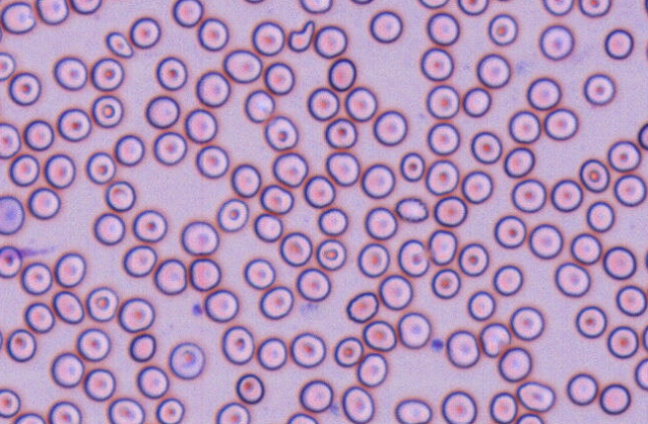PLT: (431, 337, 445, 352), (191, 302, 204, 317)
RBC: (117, 296, 155, 333), (168, 341, 205, 379), (223, 48, 262, 83), (180, 220, 219, 255), (221, 325, 255, 365), (290, 331, 326, 368), (445, 329, 479, 368), (554, 261, 590, 297), (272, 151, 308, 187), (195, 70, 230, 107), (539, 23, 574, 60), (372, 109, 407, 146), (263, 114, 298, 151), (397, 311, 431, 349), (153, 257, 187, 295), (497, 346, 532, 382), (258, 285, 294, 320), (528, 223, 563, 259), (476, 52, 511, 88), (378, 274, 413, 310), (56, 107, 92, 142), (50, 351, 84, 388), (341, 385, 374, 423), (397, 238, 429, 277), (516, 380, 555, 412), (325, 151, 360, 186), (360, 163, 395, 198), (511, 178, 546, 213), (145, 94, 180, 129), (509, 305, 544, 340), (85, 286, 119, 322), (425, 159, 459, 195), (203, 288, 239, 322), (295, 267, 331, 301), (251, 20, 285, 56), (440, 390, 477, 423), (53, 55, 87, 90), (152, 131, 187, 165), (526, 76, 561, 110), (76, 327, 111, 361), (425, 84, 459, 119), (132, 208, 167, 242), (602, 245, 636, 280), (0, 1, 36, 34), (184, 107, 217, 143), (313, 24, 347, 58), (195, 144, 229, 178), (90, 57, 124, 91), (420, 47, 454, 81), (279, 231, 312, 266), (122, 244, 157, 277), (344, 86, 377, 121), (298, 379, 333, 412), (357, 242, 390, 277), (43, 153, 76, 188), (543, 107, 578, 140), (54, 251, 86, 287), (364, 206, 397, 240), (83, 367, 116, 401), (188, 257, 221, 291), (493, 214, 526, 248), (369, 9, 402, 43), (216, 198, 249, 232), (8, 71, 41, 105), (613, 174, 647, 207), (550, 178, 583, 212), (426, 11, 459, 45), (479, 322, 511, 357), (307, 86, 339, 121), (356, 352, 388, 387), (155, 55, 187, 90), (136, 365, 169, 398), (508, 110, 541, 143), (427, 122, 460, 155), (583, 72, 616, 105), (52, 290, 84, 324), (345, 291, 379, 323), (566, 372, 598, 406), (197, 17, 229, 51), (27, 187, 61, 219), (303, 174, 335, 208), (470, 130, 502, 164), (575, 304, 607, 338), (433, 195, 467, 227), (263, 61, 295, 95), (461, 169, 493, 203), (362, 319, 396, 351), (91, 94, 123, 128), (607, 140, 641, 172), (579, 158, 610, 193), (230, 162, 261, 197), (259, 183, 294, 214), (427, 229, 457, 265), (8, 153, 40, 186), (93, 212, 125, 245), (458, 242, 489, 276), (21, 261, 52, 295), (244, 89, 275, 123), (256, 336, 287, 370), (487, 12, 518, 46), (0, 194, 25, 235), (570, 232, 602, 264), (615, 284, 647, 316), (599, 383, 631, 415), (503, 146, 535, 178), (243, 257, 275, 289), (104, 180, 136, 212), (129, 16, 161, 48), (607, 325, 638, 358), (85, 151, 116, 184), (114, 133, 145, 166), (324, 117, 357, 148), (6, 328, 36, 362), (492, 264, 523, 296), (23, 119, 54, 151), (107, 397, 145, 423), (394, 397, 432, 423), (327, 57, 356, 91), (24, 302, 55, 333), (333, 335, 363, 367), (316, 238, 346, 270), (431, 268, 461, 299), (604, 28, 634, 59), (488, 391, 517, 423), (235, 372, 264, 404), (586, 200, 615, 232), (253, 212, 283, 242), (317, 207, 348, 236), (462, 86, 491, 117), (467, 290, 495, 321), (395, 196, 428, 222), (35, 0, 69, 25), (172, 0, 203, 27), (128, 333, 156, 362), (399, 151, 425, 182), (48, 400, 82, 423), (215, 401, 250, 423), (0, 122, 21, 158), (155, 397, 184, 423), (0, 245, 22, 278), (0, 388, 21, 418), (578, 0, 611, 17), (542, 0, 574, 16), (457, 0, 488, 15), (299, 0, 332, 14), (70, 0, 102, 14), (0, 51, 15, 80), (634, 357, 647, 390), (285, 411, 318, 423), (12, 412, 46, 423), (515, 412, 544, 423), (417, 0, 449, 9), (637, 122, 647, 150), (642, 323, 648, 351), (348, 0, 374, 5), (643, 247, 648, 270), (644, 37, 648, 61), (242, 0, 265, 4), (0, 23, 4, 43), (0, 328, 3, 351), (644, 0, 648, 13), (491, 0, 517, 2)
Schistocyte: (287, 20, 315, 52), (106, 31, 134, 58)
